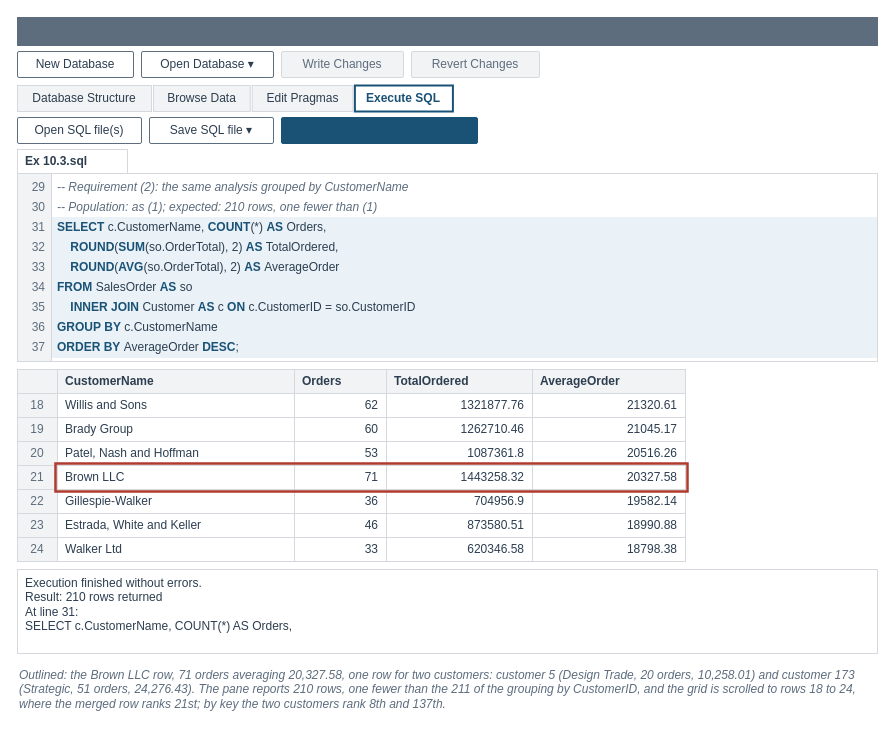
Image size: 895x738. Some labels were removed from this diagram. Each missing label, with the centre of its shape:
"DB Browser for SQLite - C:\Users\you\Documents\CharlesRiver_Work.sqlite" goes at [447,31].
"▶ Execute all/selected SQL" goes at [379,130].
